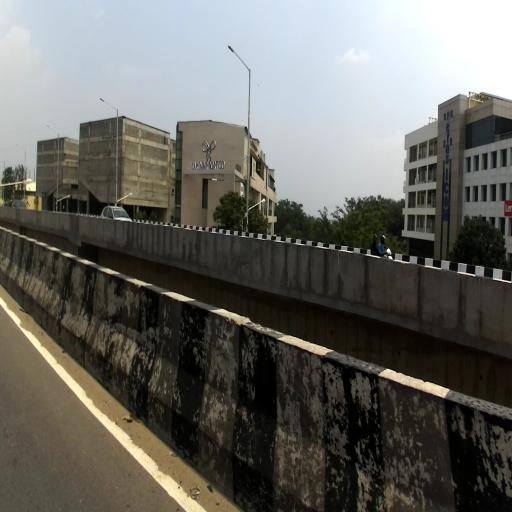street_light_0: (228, 45, 251, 73), (0, 177, 33, 189), (100, 97, 118, 112), (246, 198, 265, 212), (116, 192, 133, 202), (56, 194, 71, 204), (46, 124, 59, 135), (15, 142, 26, 151), (23, 196, 35, 203)
